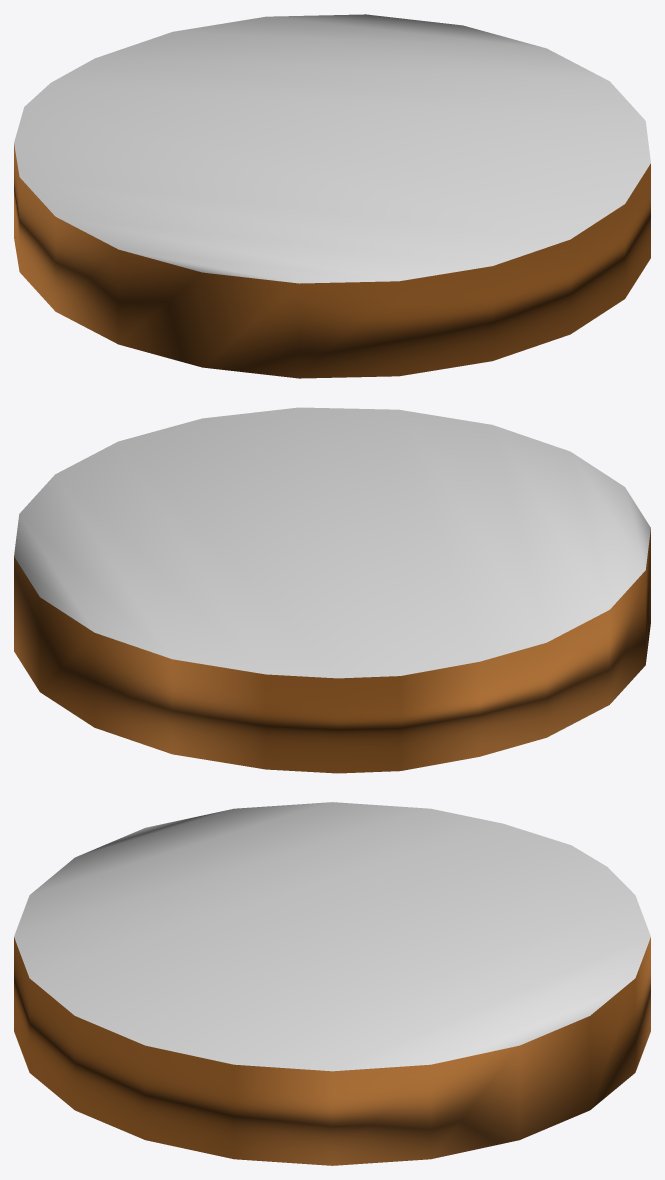
The model's file is IglooFurnitureSign.fbx.
3 views of the same model, one above another, from view 1: azimuth 30°, elevation 25°; view 2: azimuth 150°, elevation 25°; view 3: azimuth 270°, elevation 25° (orthographic).
Visible parts, largest first — view 1: IglooFurnitureSign; view 2: IglooFurnitureSign; view 3: IglooFurnitureSign.
Boxes of the visible parts, x1=… form: IglooFurnitureSign: x1=14, y1=14, x2=650, y2=378; IglooFurnitureSign: x1=14, y1=407, x2=650, y2=773; IglooFurnitureSign: x1=14, y1=802, x2=650, y2=1165.
Bounding box in the file's own units: 86.1 × 14.1 × 86.1.
